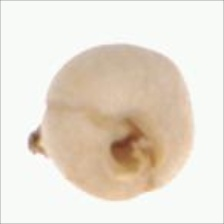L3: (108, 116, 162, 172)
L4: (27, 43, 194, 201)
